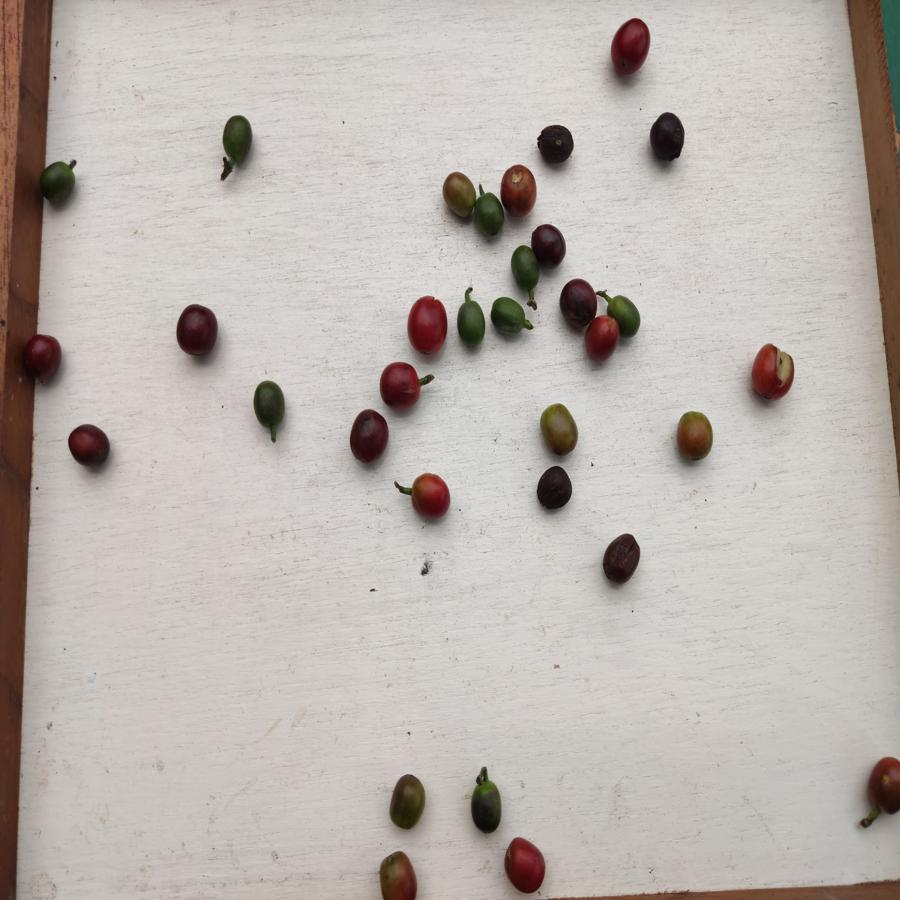Inmaduro: (470, 779, 503, 833), (39, 161, 79, 205), (252, 380, 287, 428), (222, 114, 252, 167), (490, 296, 525, 337), (609, 294, 640, 338), (475, 192, 504, 239), (457, 299, 484, 348), (509, 244, 535, 292)
Maduro: (406, 293, 448, 359), (610, 14, 651, 76), (753, 344, 796, 402), (502, 837, 545, 893), (407, 473, 455, 520), (868, 753, 900, 818), (380, 361, 421, 410), (502, 164, 537, 218), (586, 315, 619, 361)
Pinton: (539, 403, 582, 458), (377, 848, 421, 900), (390, 772, 426, 833), (675, 411, 714, 460), (441, 172, 475, 220)
Sobremaduro: (348, 406, 390, 465), (176, 303, 220, 359), (66, 422, 112, 470), (22, 332, 63, 385), (603, 531, 641, 587), (650, 110, 687, 166), (558, 279, 598, 327), (530, 223, 569, 270), (534, 465, 573, 511), (535, 124, 578, 165)
